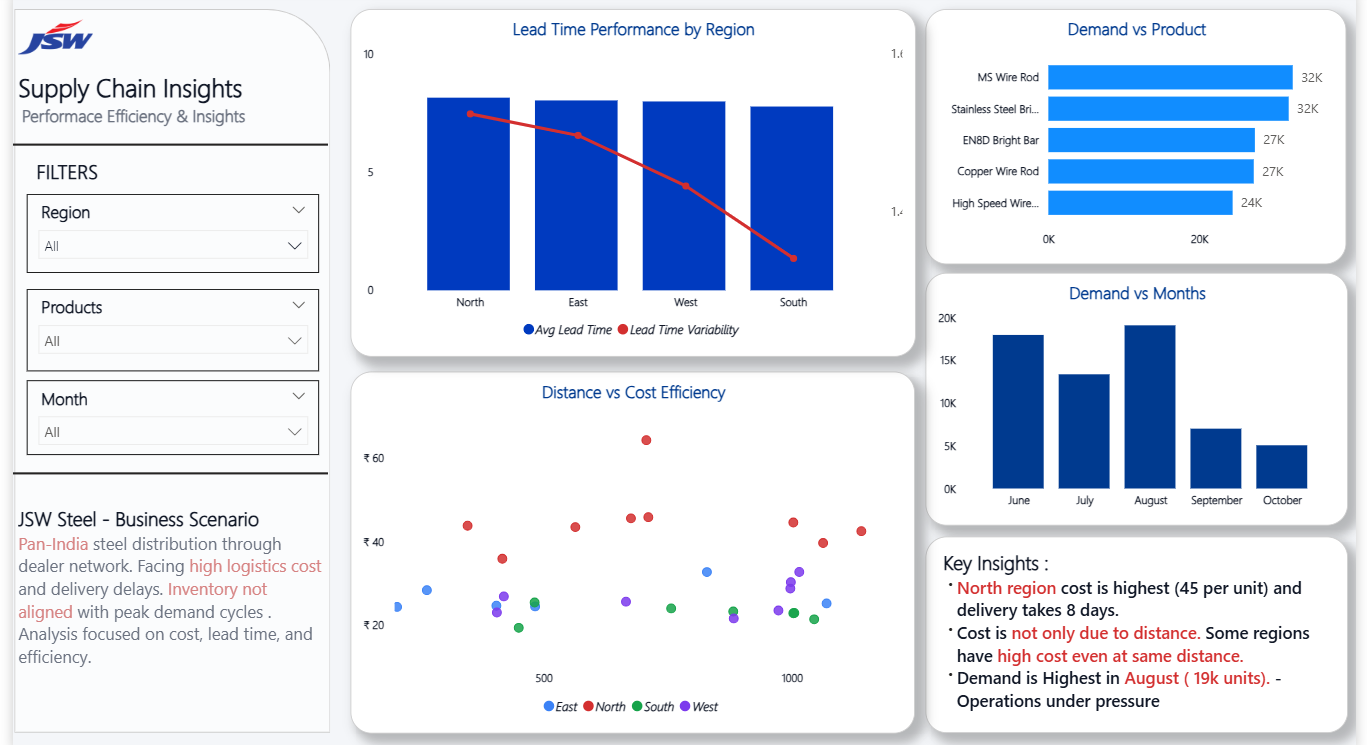

This screenshot's page, from the dashboard's own definition file:
{"tool":"powerbi","page":{"name":"Demand and cost analysis","canvas":[1280,720],"ordinal":1},"visuals":[{"type":"clusteredBarChart","title":"Demand vs Product","fields":{"Category":["product_master.product_name"],"Y":["historical_orders.Total Demand"]},"box":[869.1,14.3,401.2,242.9],"z":6000},{"type":"columnChart","title":"Demand vs Months","fields":{"Y":["historical_orders.Total Demand"],"Category":["Date_Table.Month Start.Variation.Date Hierarchy.Month"]},"box":[869.1,265.5,402.4,240.5],"z":7000},{"type":"shape","box":[1.2,14.3,301.2,689.3],"z":8000},{"type":"textbox","box":[0,67.9,301.2,83.3],"z":9000},{"type":"image","box":[0,14.3,81,53.6],"z":10000},{"type":"textbox","box":[869.1,516.7,402.4,186.9],"z":11000},{"type":"shape","box":[0,135.7,300,15.5],"z":12000},{"type":"slicer","fields":{"Values":["dealer_master.region"]},"box":[13.1,190.5,278.6,75],"z":13000},{"type":"slicer","fields":{"Values":["product_master.product_name"]},"box":[13.1,281,278.6,78.6],"z":14000},{"type":"slicer","fields":{"Values":["Date_Table.Month Start"]},"box":[13.1,367.9,278.6,71.4],"z":15000},{"type":"textbox","box":[13.1,151.2,278.6,34.5],"z":16000},{"type":"textbox","box":[0,464.3,301.2,239.3],"z":17000},{"type":"shape","box":[0,448.8,300,15.5],"z":18000},{"type":"scatterChart","title":"Distance vs Cost Efficiency","fields":{"Series":["dealer_master.region"],"Y":["shipments.Cost per Unit"],"X":["dealer_master.distance_from_plant"]},"box":[321.1,359.5,537.9,344.4],"z":19000},{"type":"lineClusteredColumnComboChart","title":"Lead Time Performance by Region","fields":{"Category":["dealer_master.region"],"Y":["Query1.Avg Lead Time"],"Y2":["Query1.Lead Time Variability"]},"box":[321.4,14.3,538.1,331],"z":19001}]}

Visuals, with their boxes on the page's 1280x720 design canvas (x1, y1, x2, y2). These are canvas units, not pixel positions in the 1367x745 screenshot, which may show the page scaled, cropped or inside an application window:
"Demand vs Product" clusteredBarChart: region(869, 14, 1270, 257)
"Demand vs Months" columnChart: region(869, 266, 1272, 506)
shape: region(1, 14, 302, 704)
textbox: region(0, 68, 301, 151)
image: region(0, 14, 81, 68)
textbox: region(869, 517, 1272, 704)
shape: region(0, 136, 300, 151)
slicer - dealer_master.region: region(13, 190, 292, 266)
slicer - product_master.product_name: region(13, 281, 292, 360)
slicer - Date_Table.Month Start: region(13, 368, 292, 439)
textbox: region(13, 151, 292, 186)
textbox: region(0, 464, 301, 704)
shape: region(0, 449, 300, 464)
"Distance vs Cost Efficiency" scatterChart: region(321, 360, 859, 704)
"Lead Time Performance by Region" lineClusteredColumnComboChart: region(321, 14, 860, 345)
